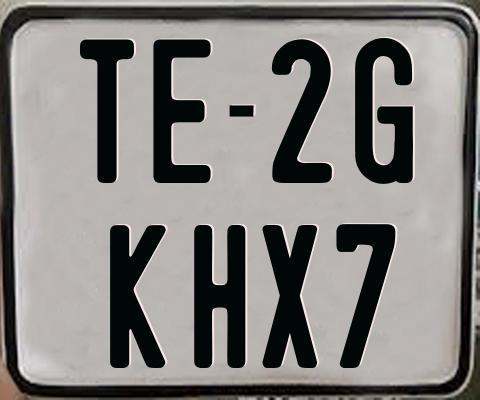2: (269, 39, 330, 183)
7: (336, 223, 399, 373)
E: (153, 38, 211, 187)
G: (353, 37, 417, 183)
H: (191, 222, 245, 371)
K: (107, 224, 164, 371)
T: (78, 37, 138, 187)
X: (260, 224, 318, 373)
